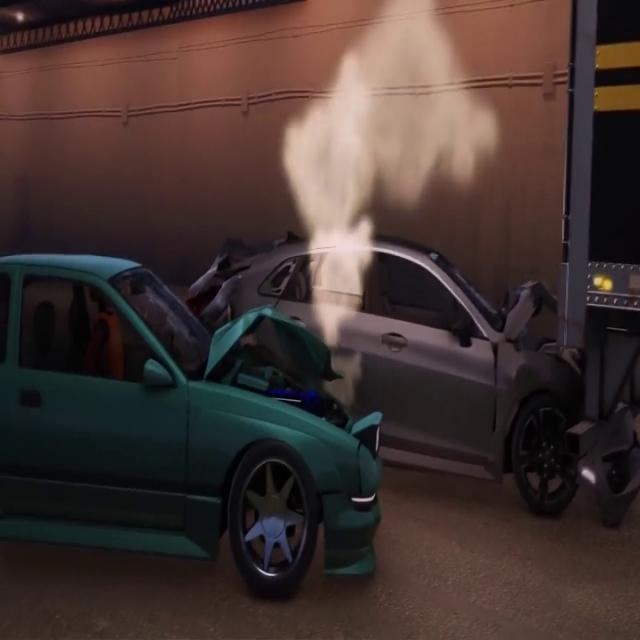accident: (378, 200, 630, 524)
